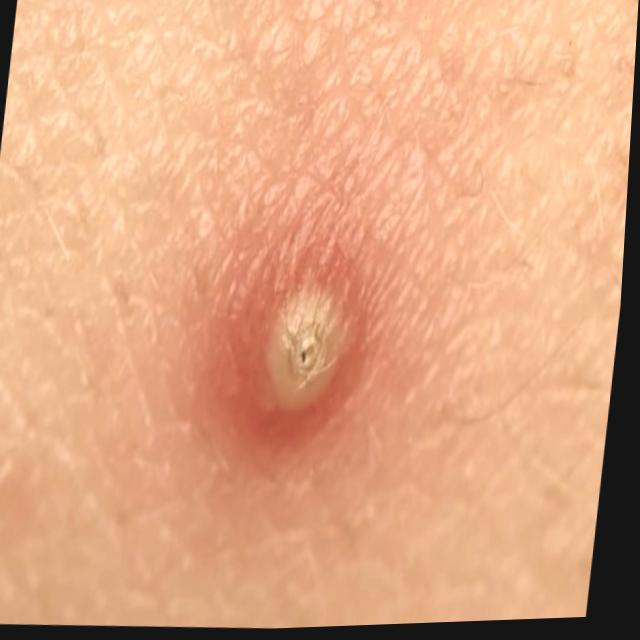pustule: (186, 219, 396, 452)
